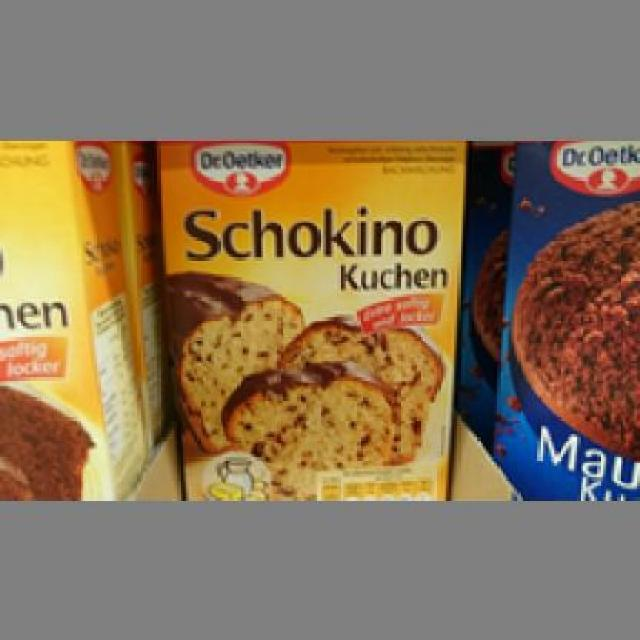Cake: (151, 140, 460, 503), (488, 140, 634, 500), (0, 136, 135, 495)
